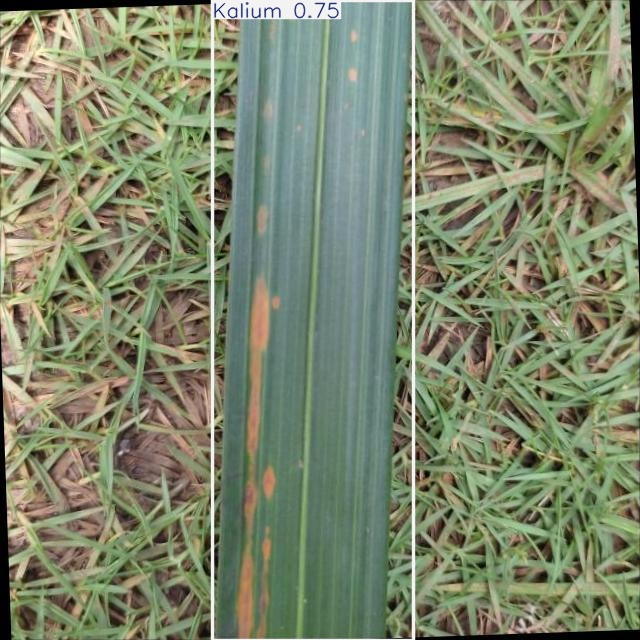Kalium: (212, 1, 413, 640)
